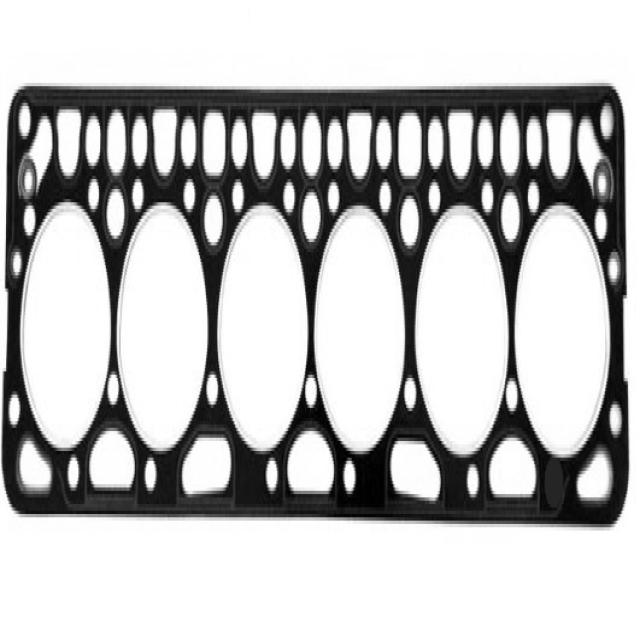missing hole: (534, 448, 583, 524)
